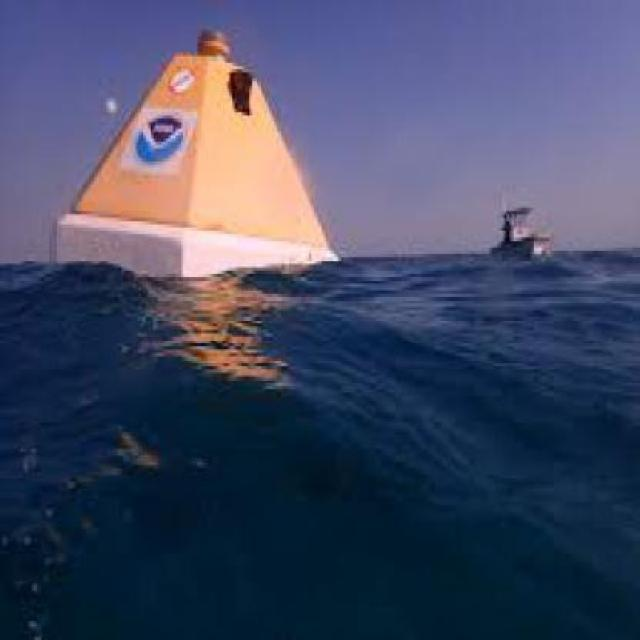buoy: (44, 14, 350, 305)
